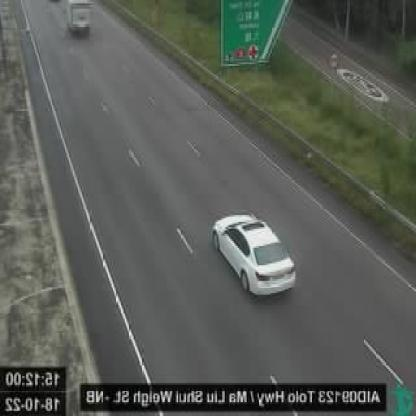Car: (209, 211, 296, 301)
Truck: (62, 0, 94, 41)
